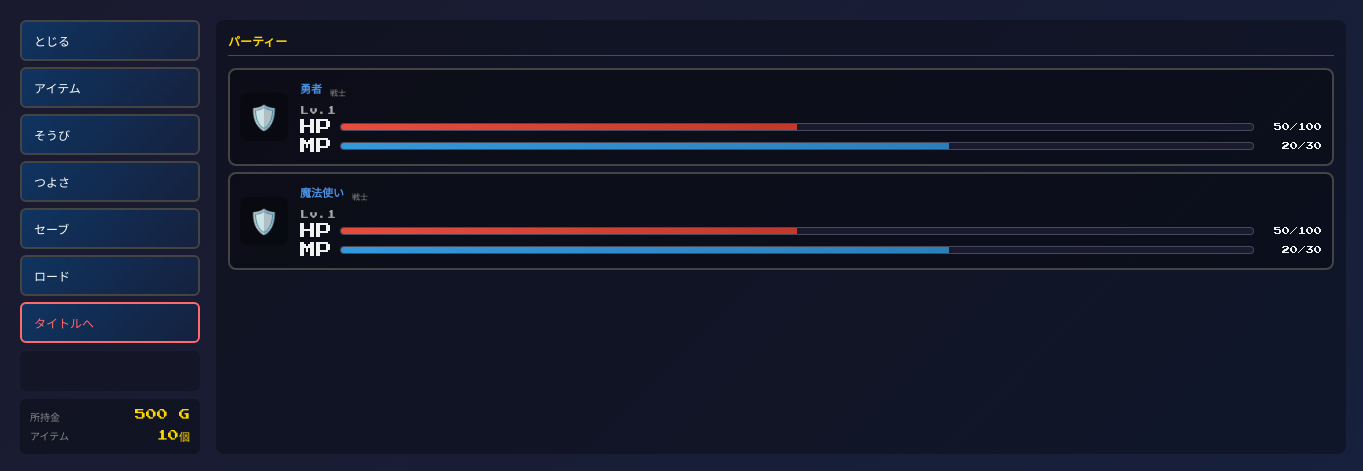
Test: MainMenu › ホバー説明 › ホバーを外すと説明が消える
Hover over the button "アイテム".
mouse_move(110, 88)  # box [20, 67, 200, 108]
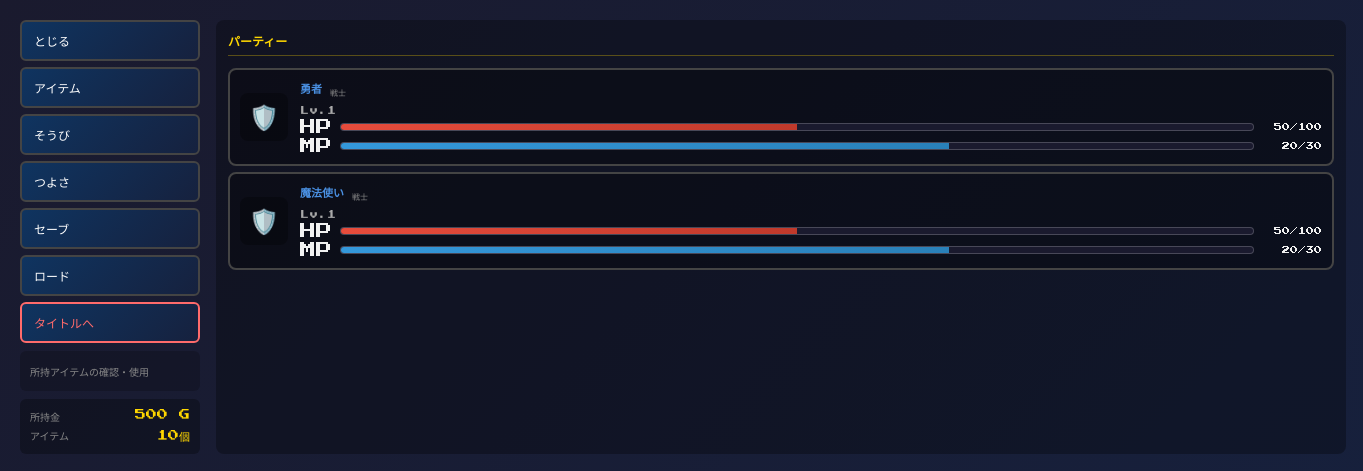
expect the text "所持アイテムの確認・使用" is shown: met, box [20, 351, 200, 391]
Move the pointer off the button "アイテム", box [20, 67, 200, 108]
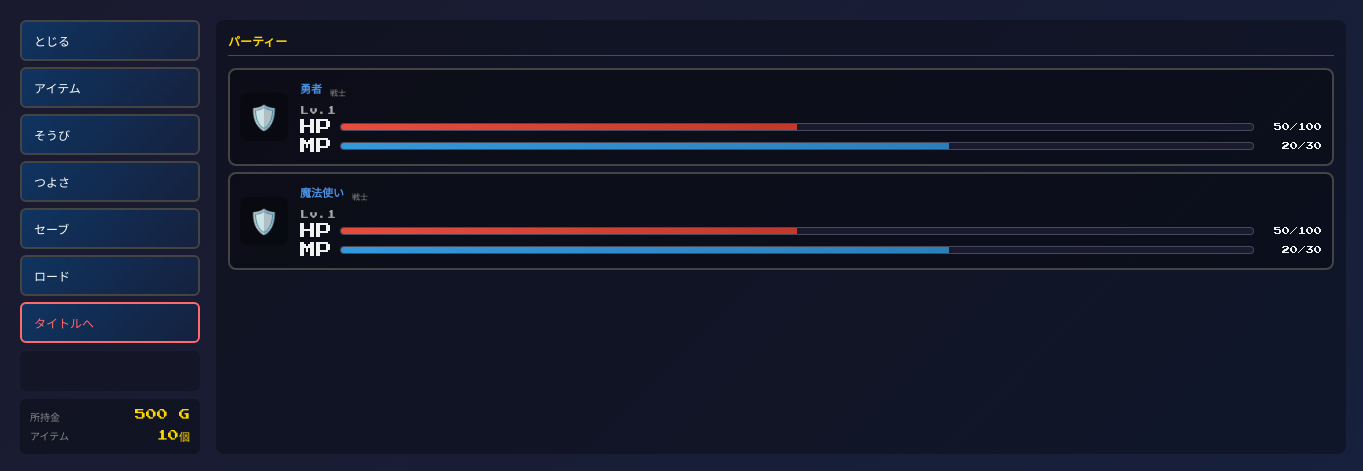
expect the text "所持アイテムの確認・使用" is gone: met
